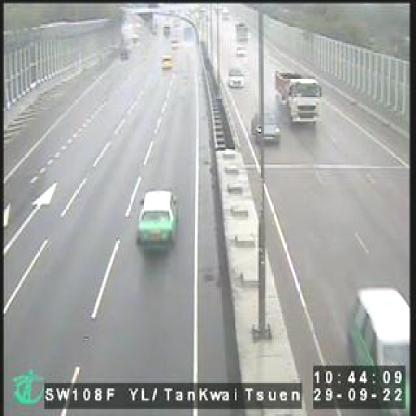Car: (348, 283, 411, 409), (137, 184, 178, 250), (246, 106, 280, 140), (223, 64, 249, 90), (160, 48, 172, 70), (232, 42, 245, 59)
Truck: (271, 64, 321, 128)
